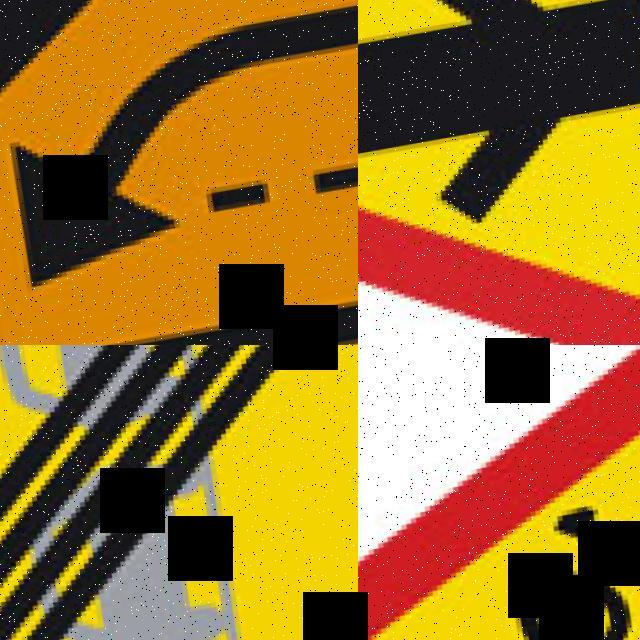108: (0, 345, 358, 640)
166: (358, 0, 640, 345)
64: (0, 0, 358, 345)
Steep uphill: (358, 345, 640, 640)
